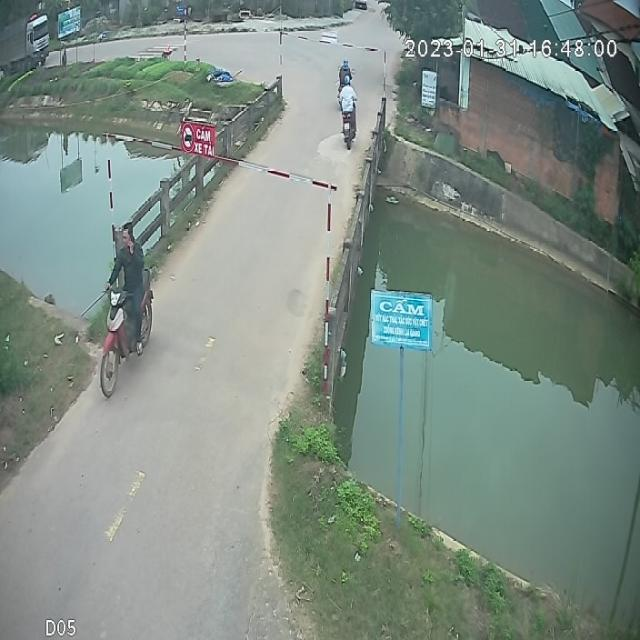with_helmet: (340, 72, 359, 93), (338, 56, 351, 81)
without_helmet: (111, 214, 142, 253)
